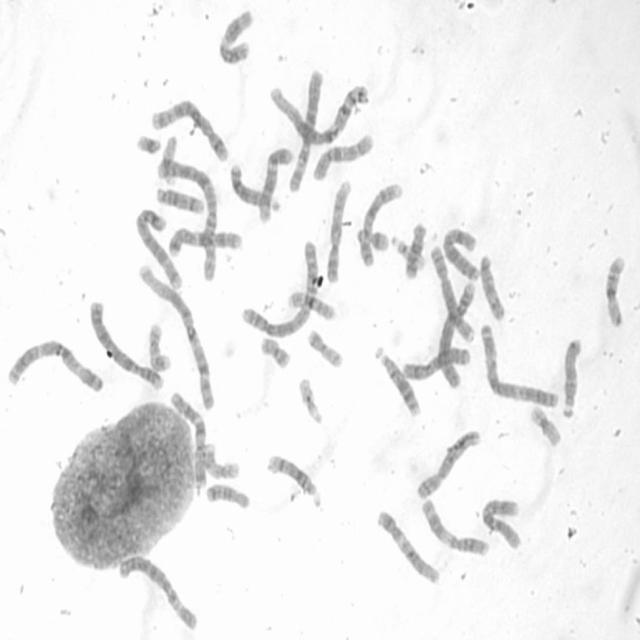A1: (136, 263, 216, 412), (266, 78, 372, 146)
A2: (154, 155, 218, 283), (240, 238, 318, 340)
A3: (478, 319, 560, 410), (5, 336, 105, 395)
B4: (86, 297, 166, 392), (435, 276, 477, 391)
B5: (148, 97, 230, 163), (134, 206, 184, 292)
C10: (310, 131, 375, 183), (479, 494, 523, 552)
C11: (418, 495, 491, 558), (216, 5, 255, 66)
C12: (374, 506, 441, 586), (256, 144, 294, 224)
C6: (115, 550, 199, 633), (284, 65, 326, 194)
C7: (168, 388, 208, 493), (166, 224, 244, 258)
C8: (415, 427, 483, 500), (428, 243, 476, 343)
C9: (357, 180, 404, 269), (324, 176, 352, 284)
D13: (372, 343, 422, 418), (227, 160, 282, 214)
D14: (265, 452, 320, 502), (153, 183, 205, 216)
D15: (558, 334, 585, 420), (477, 251, 507, 321)
E16: (602, 253, 627, 328), (284, 287, 336, 322)
E17: (197, 442, 242, 481), (146, 320, 171, 373)
E18: (401, 219, 428, 280), (203, 480, 251, 512)
F19: (528, 402, 563, 449), (156, 132, 178, 182)
F20: (305, 326, 344, 369), (258, 334, 292, 369)
G21: (355, 228, 390, 252), (133, 131, 162, 155)
G22: (388, 233, 427, 273), (300, 380, 324, 426)
X: (399, 342, 471, 383), (440, 226, 480, 282)
